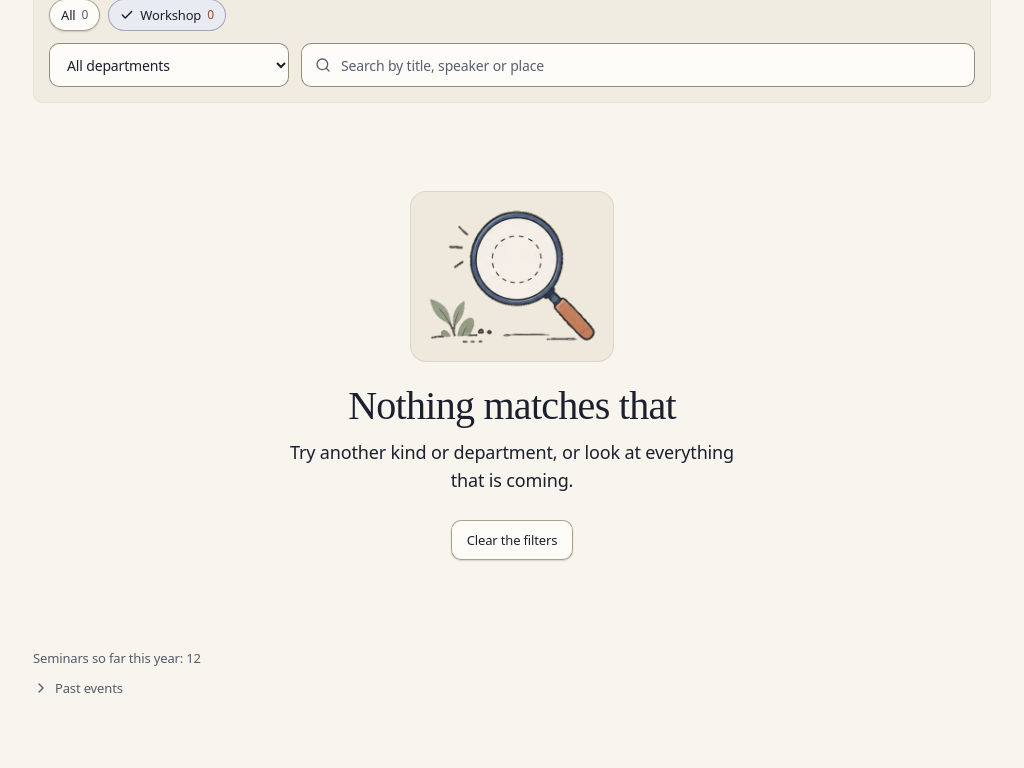
it: Events page: narrowing it down › says so kindly, and offers to clear the filters, when nothing matches
(page scrolled)
Check: the text "Nothing matches that" is shown, box [348,384,676,428]
Click the button "Clear the filters" at (512, 540), box [451,520,573,560]
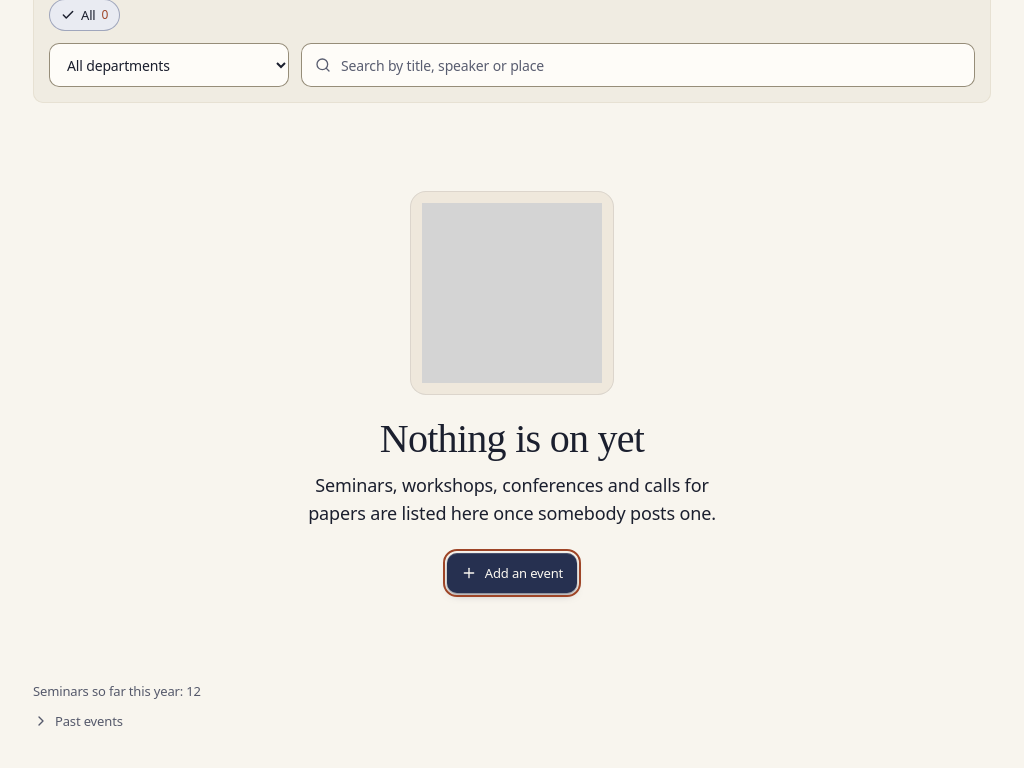
Check: the text "Nothing matches that" is gone
